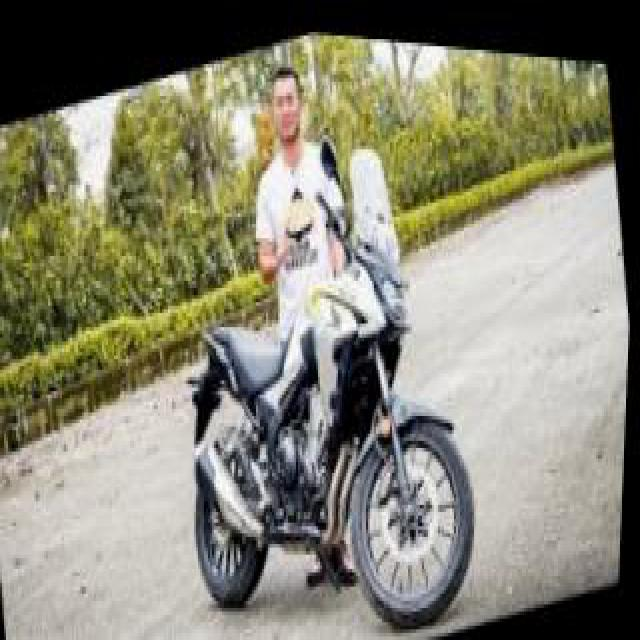CB500X: (152, 89, 508, 636)
